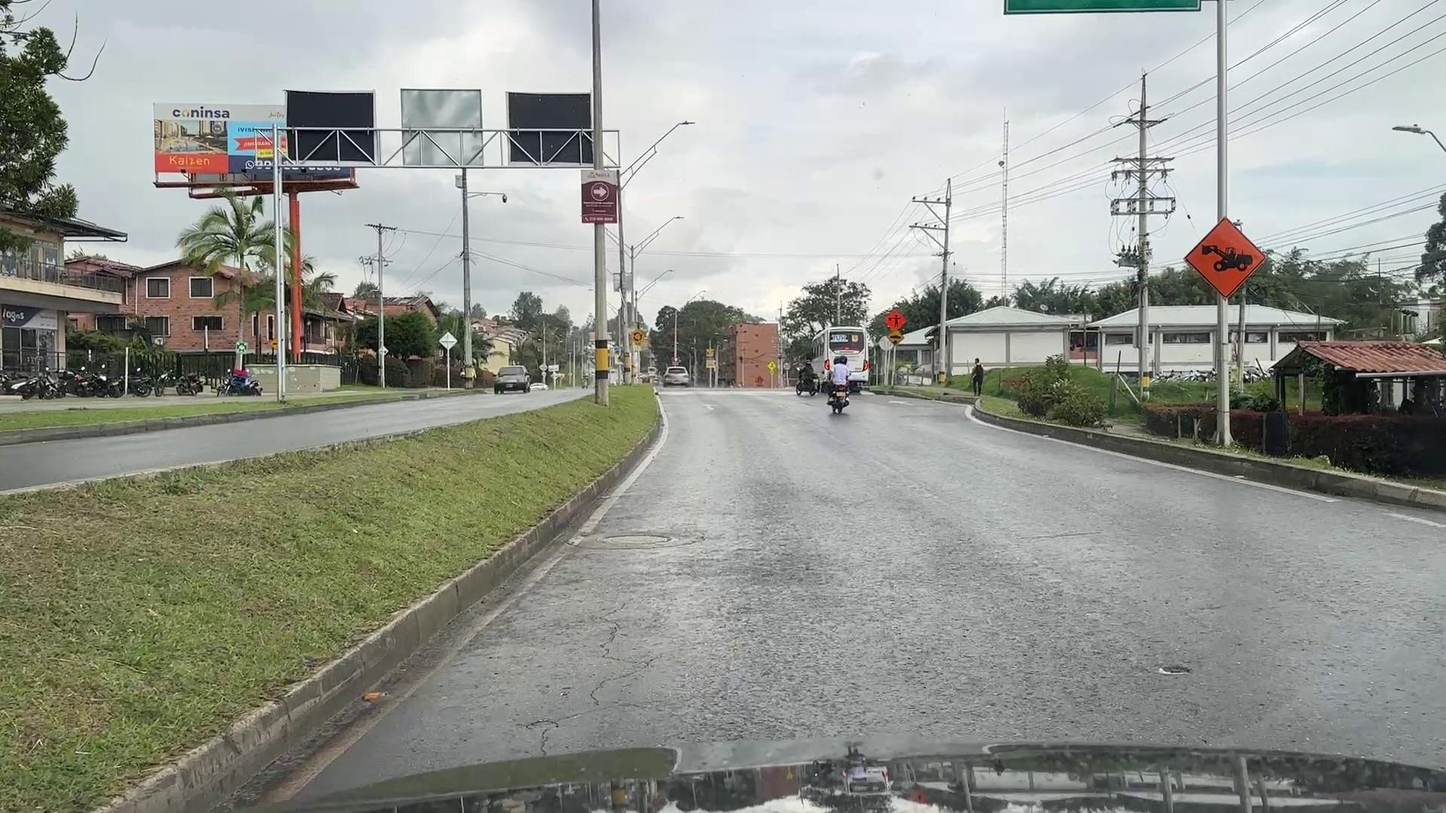bache: (1159, 665, 1190, 674)
registro: (604, 535, 671, 544)
